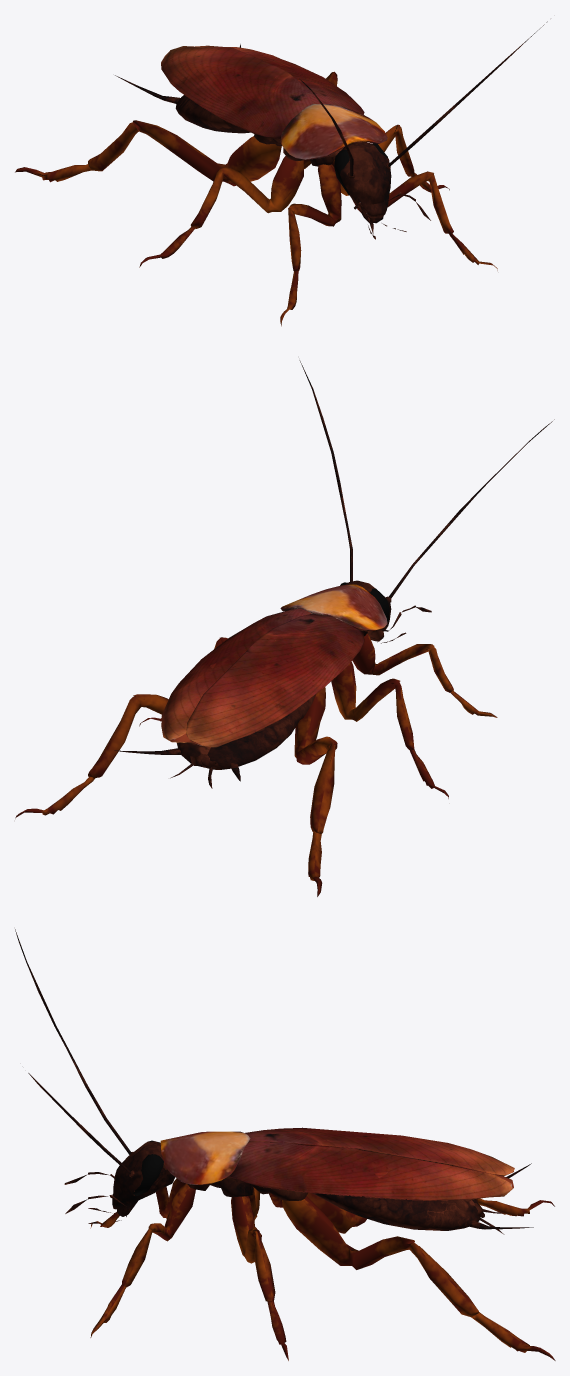
Rendered from cockroach_medium.glb.
3 views of the same model, one above another, from view 1: azimuth 30°, elevation 25°; view 2: azimuth 150°, elevation 25°; view 3: azimuth 270°, elevation 25° (orthographic). The views are drawn at different scales.
Visible parts, largest first — view 1: Cockroach; view 2: Cockroach; view 3: Cockroach.
Part boxes in pixels (x1=…): Cockroach: x1=15, y1=21, x2=547, y2=326; Cockroach: x1=15, y1=360, x2=554, y2=896; Cockroach: x1=15, y1=929, x2=555, y2=1360.
Bounding box in the file's own units: 2.02 × 1.76 × 2.94.
Materials: 1 (1 with a texture image).
